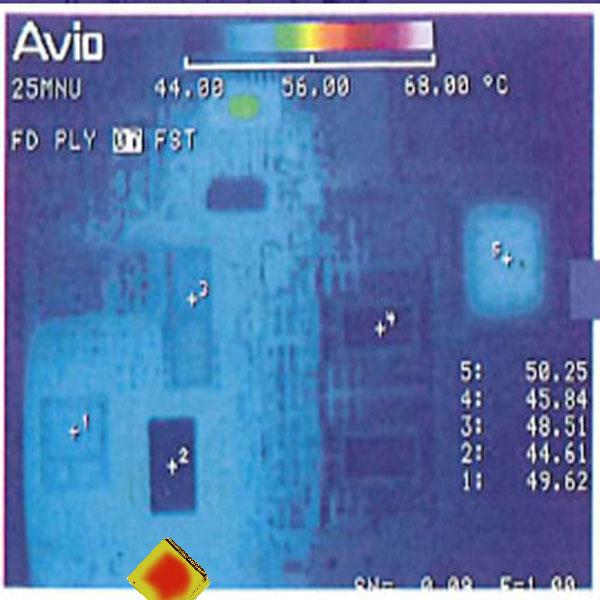componente_T: (123, 537, 215, 600), (288, 23, 353, 52)
